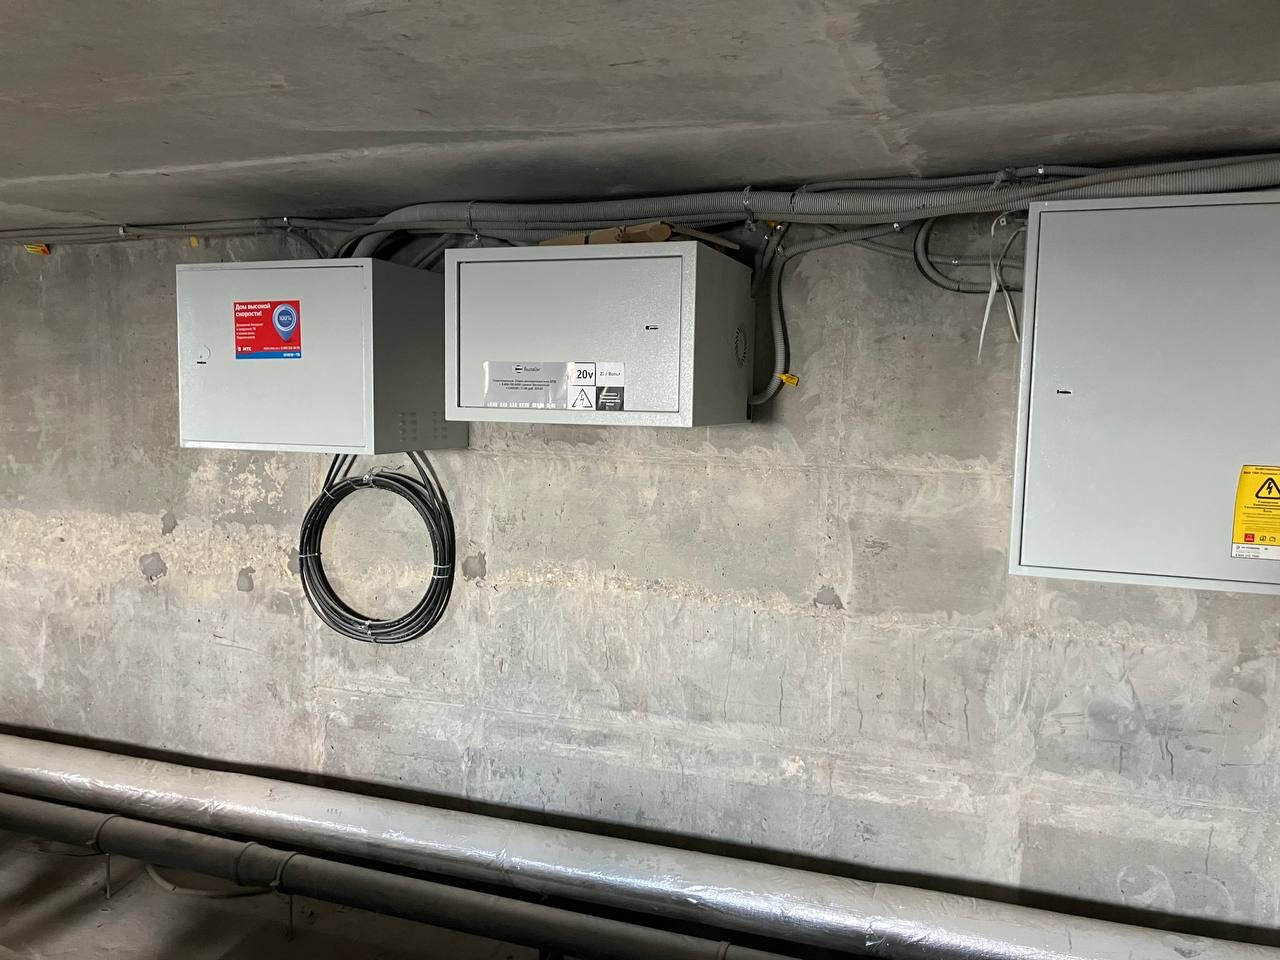shta-7m: (436, 237, 759, 434)
